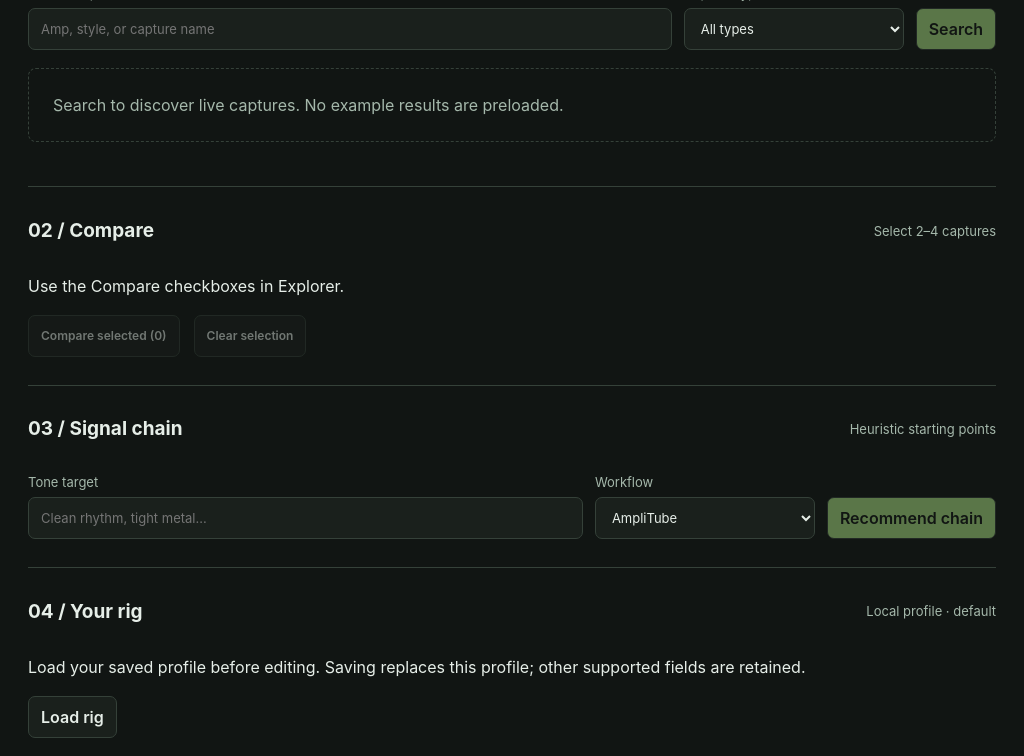
Test: renders recommended chain blocks and warnings as guidance
The width and height of the screenshot is (1024, 756).
(page scrolled)
Step 1. Type "clean rhythm" into the field labelled "Tone target" → x=305, y=518, box [28, 497, 583, 539]
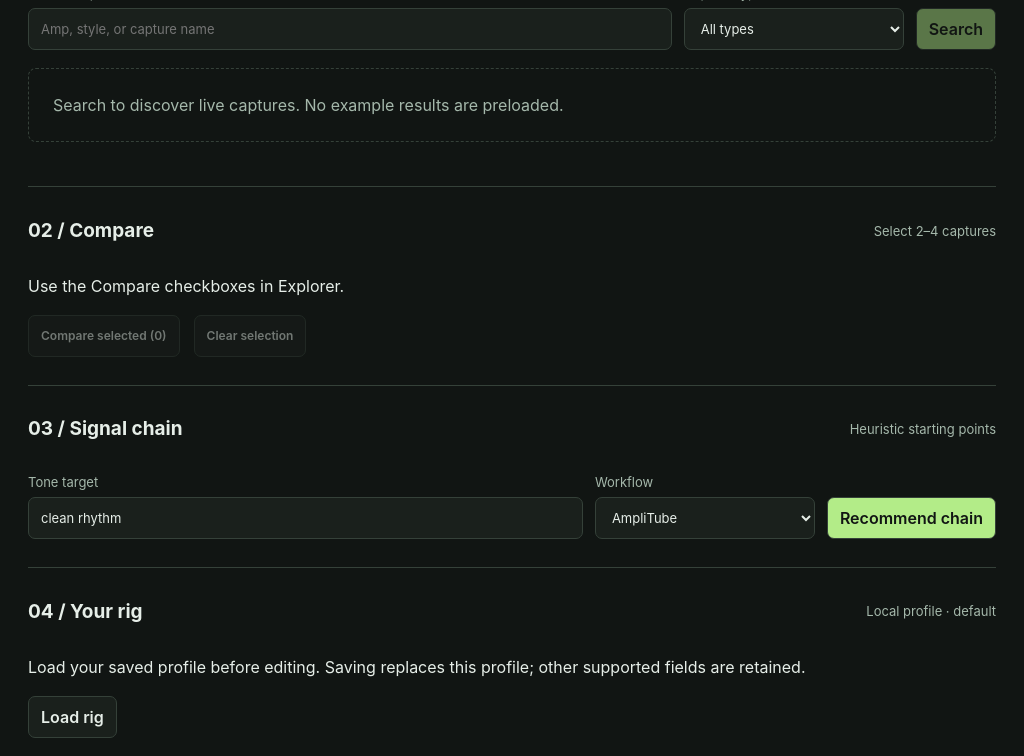
Step 2. Click the button "Recommend chain" → x=911, y=518, box [827, 497, 996, 539]
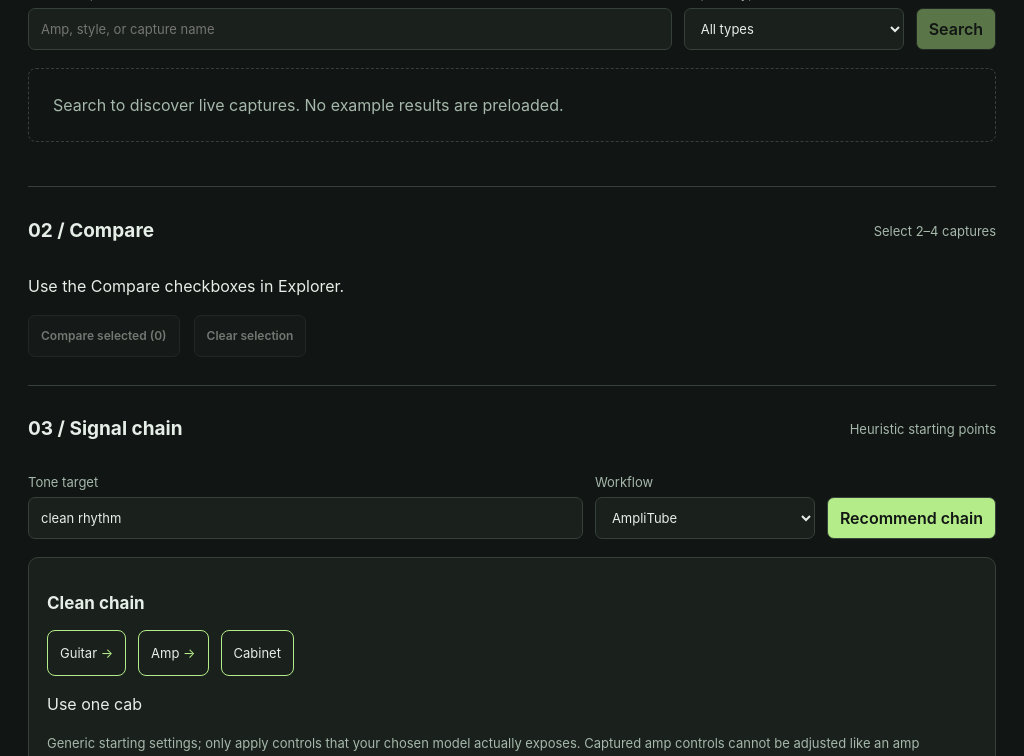
Check: the heading "Clean chain" is shown, box [47, 593, 145, 613]
Check: the list named "Signal chain" shows "Cabinet", box [234, 645, 281, 661]
